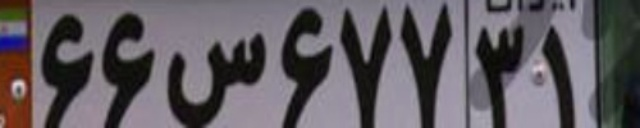1: (538, 25, 581, 127)
3: (472, 24, 528, 126)
6: (279, 5, 334, 127), (100, 11, 153, 127), (39, 14, 91, 126)
7: (339, 3, 395, 127), (399, 1, 453, 127)
sin: (159, 31, 266, 126)
